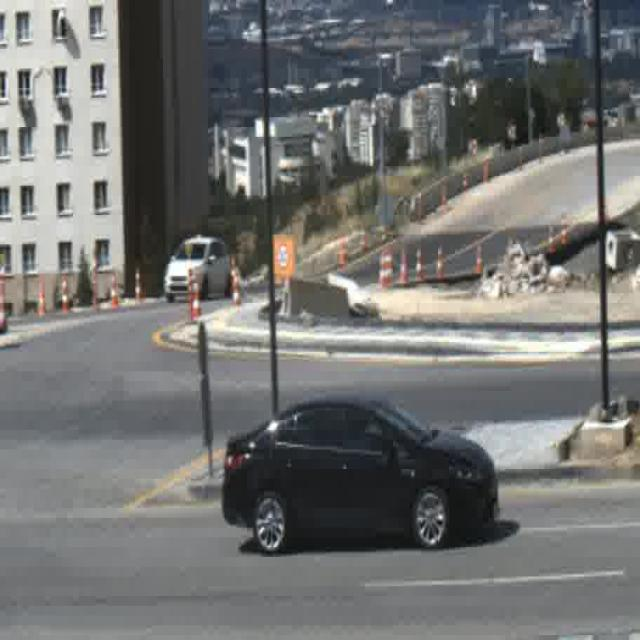Car: (222, 394, 500, 554), (164, 235, 231, 304)
